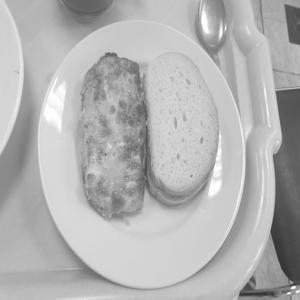bread: (145, 43, 214, 217)
cheese_sandwich: (67, 51, 154, 233)
